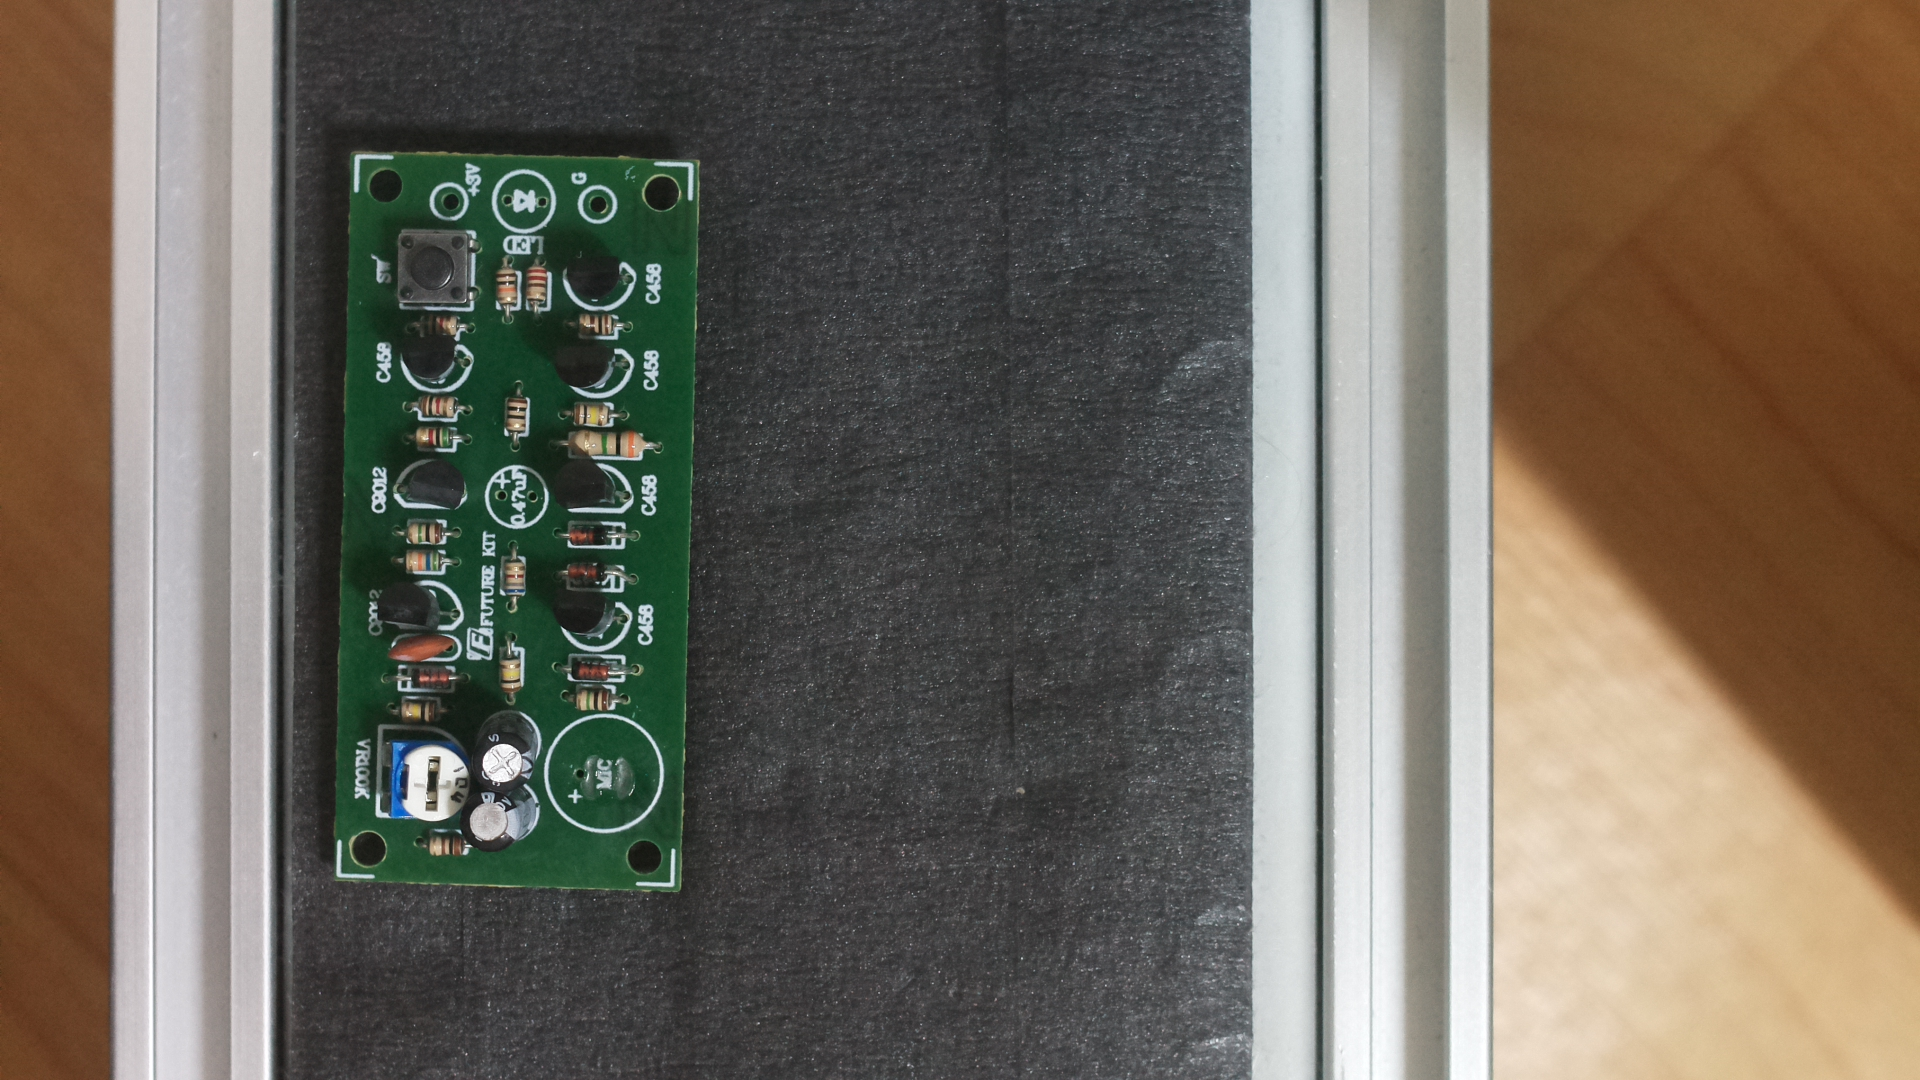A_Missing_part: (328, 131, 707, 919)
